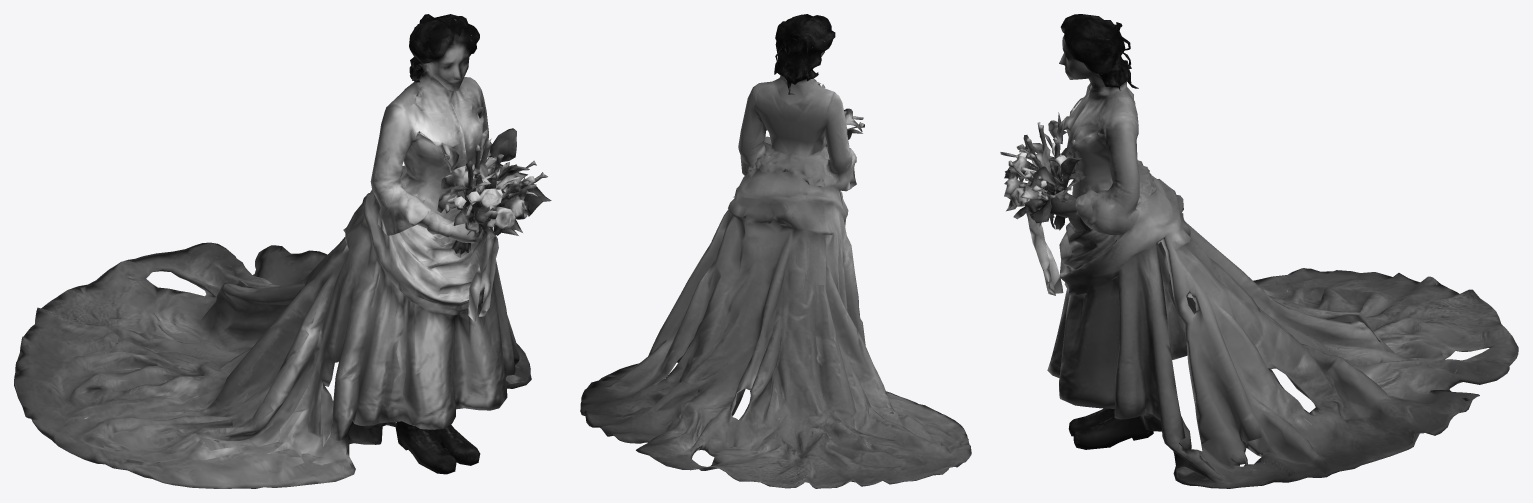
File: lucy_ashgrove_ghost.glb
The picture shows the model from 3 angles, left to right: view 1: azimuth 30°, elevation 25°; view 2: azimuth 150°, elevation 25°; view 3: azimuth 270°, elevation 25°; orthographic projection. The views are drawn at different scales.
Visible parts, largest first — view 1: RETOPO; view 2: RETOPO; view 3: RETOPO.
Part boxes in pixels (left/top/right/bottom): RETOPO: left=14, top=14, right=551, bottom=488; RETOPO: left=580, top=14, right=971, bottom=488; RETOPO: left=1000, top=14, right=1518, bottom=488.
Bounding box in the file's own units: 1.72 × 1.62 × 1.81.
Materials: 1 (1 with a texture image).
